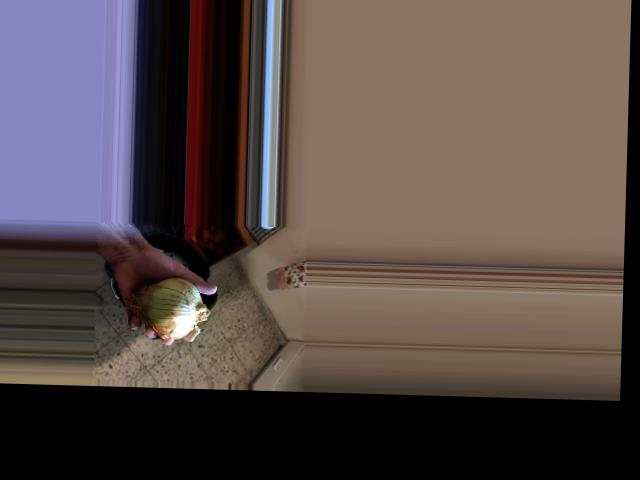onion: (129, 274, 206, 337)
